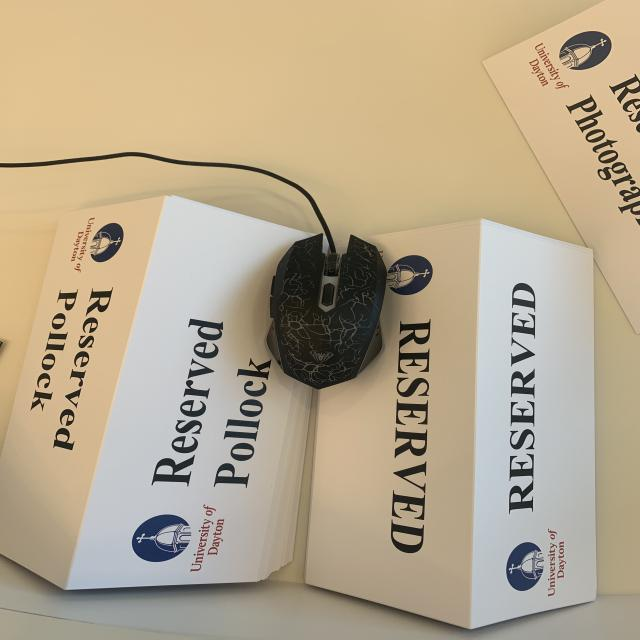Mouse: (264, 225, 389, 393)
